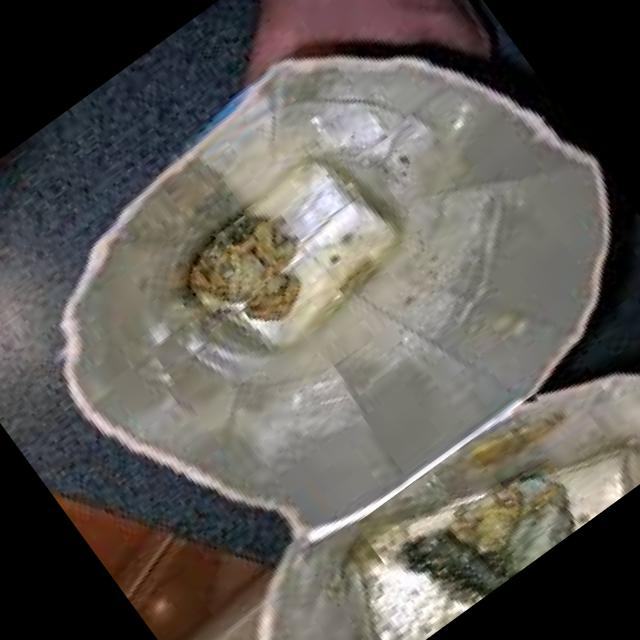Organic: (353, 386, 614, 622), (180, 194, 326, 338)
